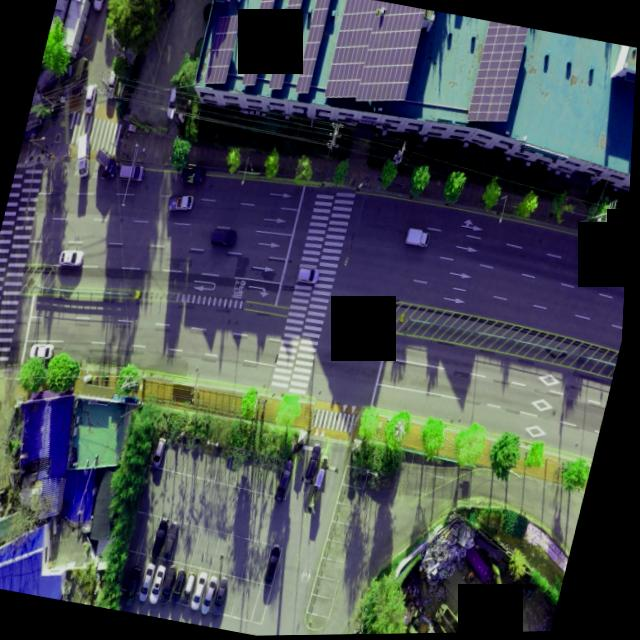car: (91, 146, 123, 180), (70, 54, 90, 96), (268, 546, 286, 586), (217, 576, 235, 616), (154, 519, 172, 558), (280, 463, 298, 502), (166, 521, 184, 560), (154, 564, 171, 605), (142, 563, 159, 601), (119, 162, 148, 184), (165, 84, 182, 121), (130, 567, 146, 606), (206, 576, 223, 612), (211, 226, 239, 247), (60, 245, 86, 267), (166, 565, 182, 600), (309, 446, 325, 480), (187, 571, 203, 605), (198, 574, 213, 609), (176, 568, 191, 603), (31, 340, 57, 360), (295, 267, 320, 287), (83, 83, 98, 114), (156, 439, 170, 468), (104, 70, 118, 99), (158, 0, 177, 15), (91, 0, 108, 9)
medium_truck: (433, 602, 487, 635)
small_truck: (70, 131, 99, 179), (405, 227, 433, 250), (180, 166, 207, 188), (169, 193, 195, 215), (100, 0, 121, 16)
